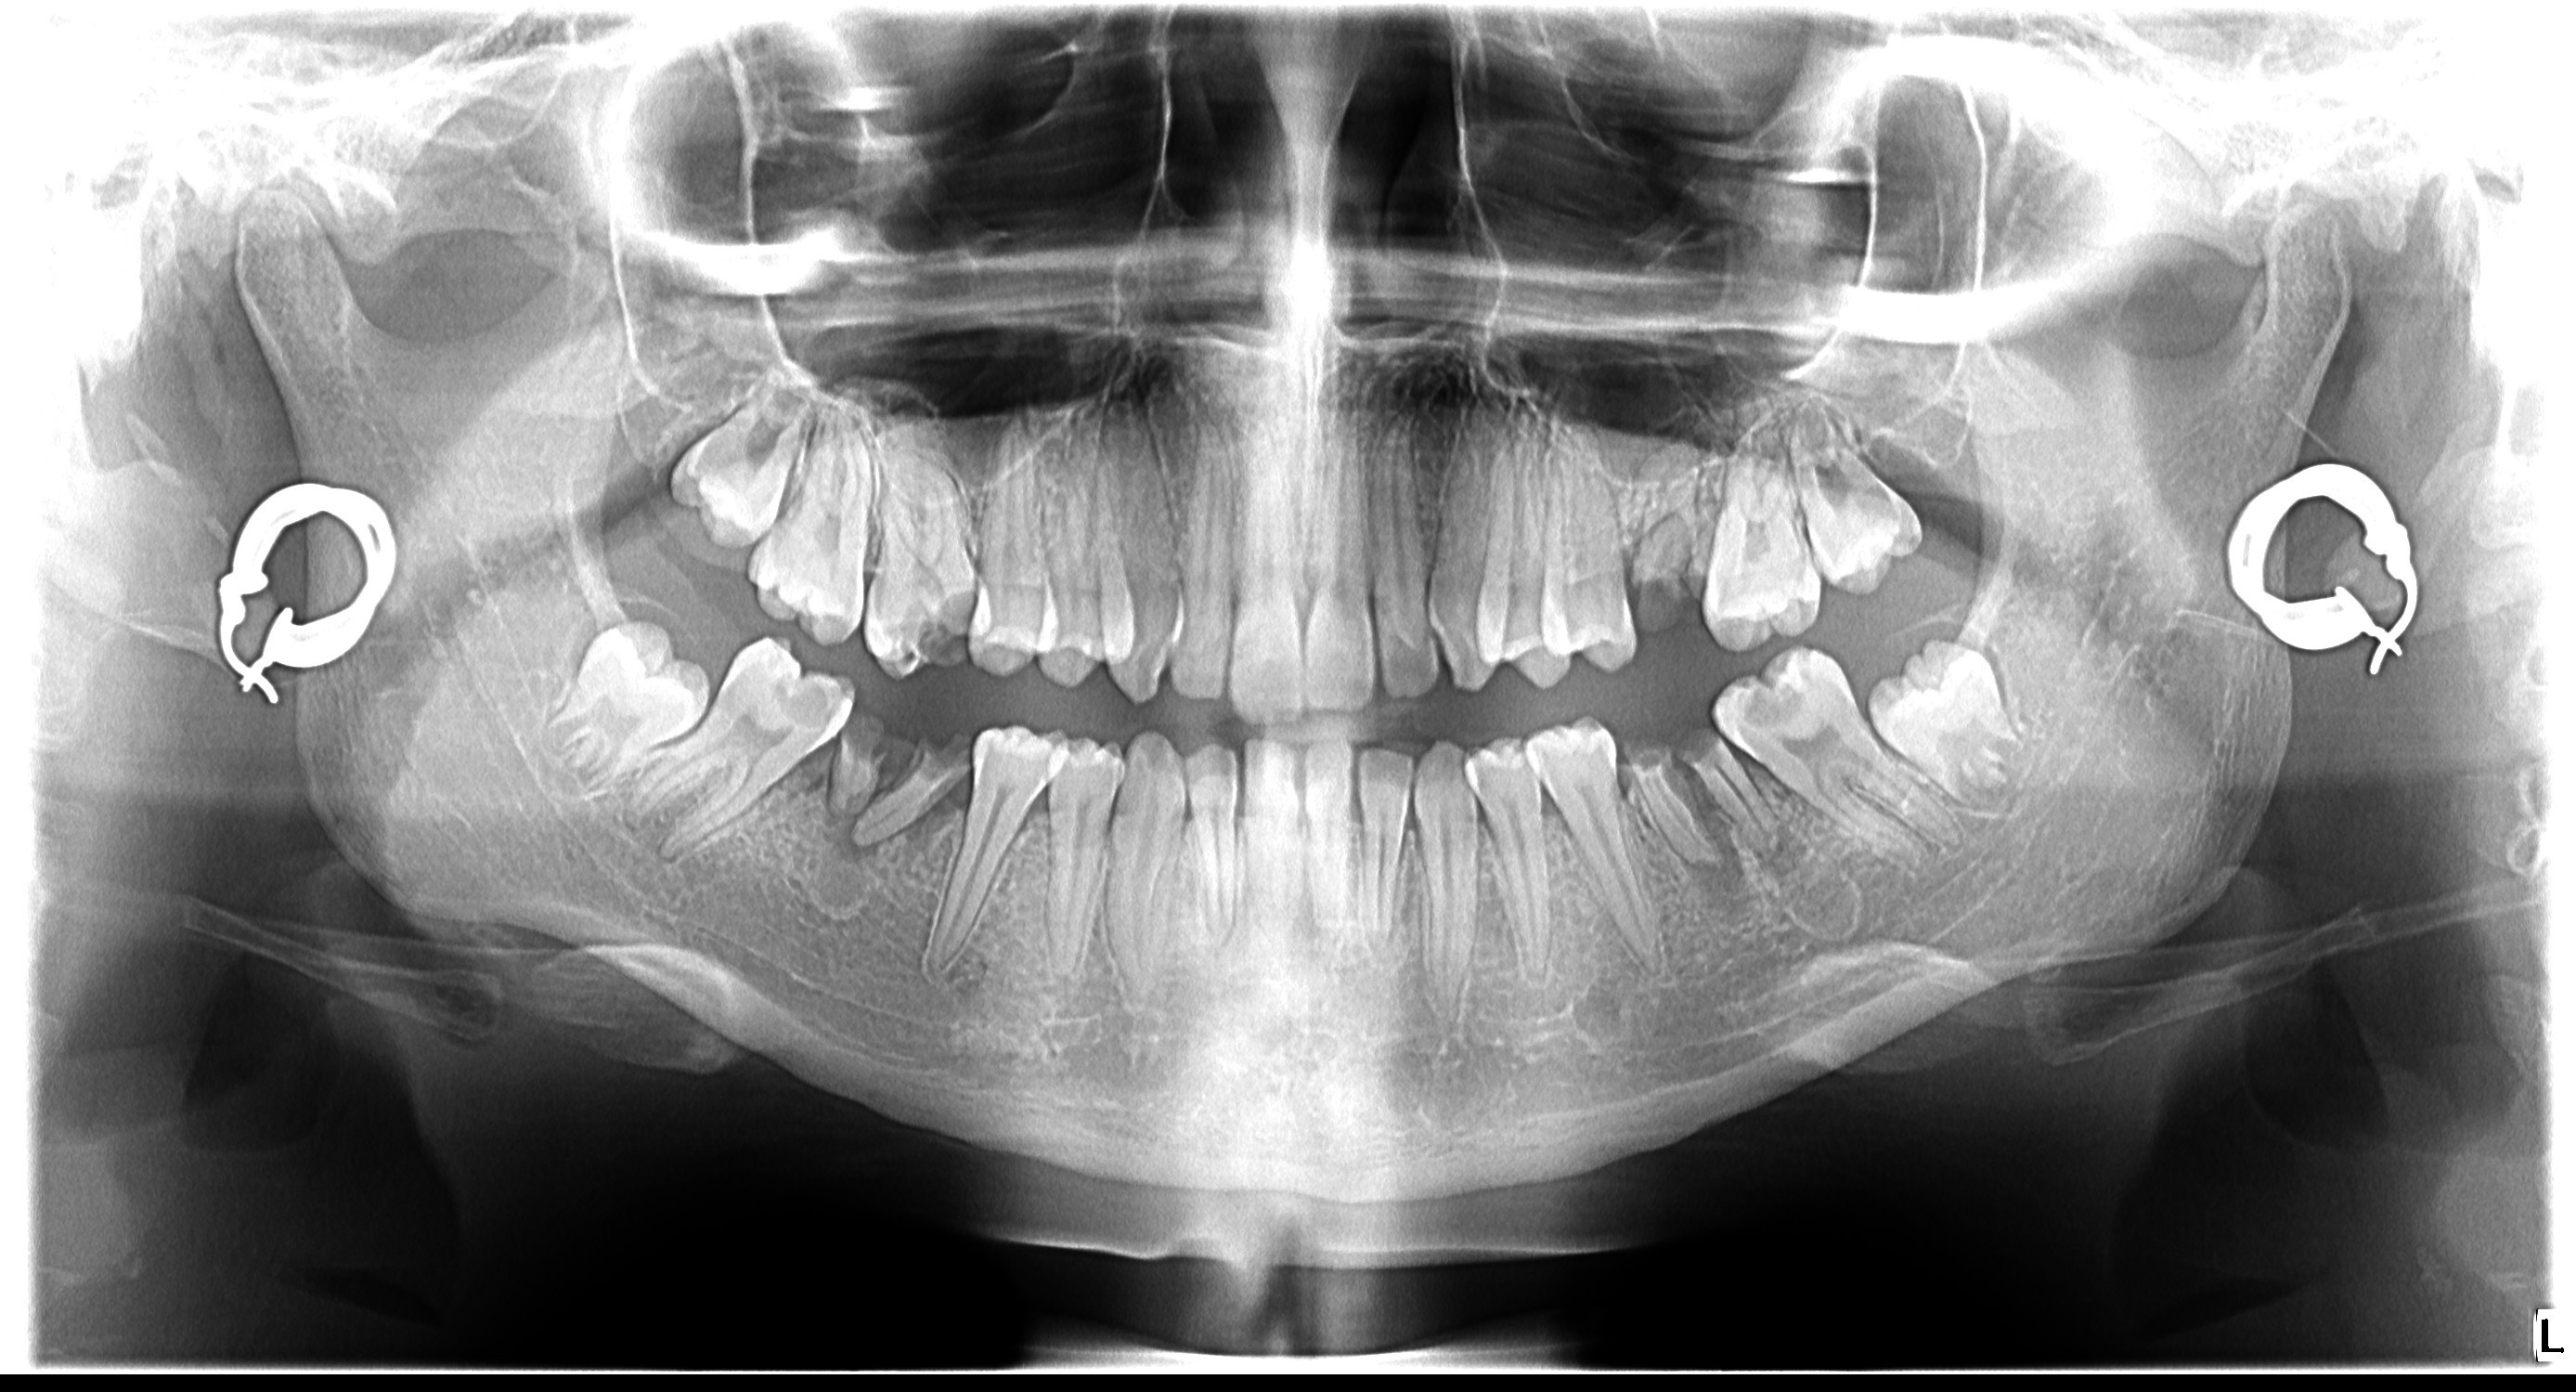API: (1663, 847, 1769, 926), (807, 801, 885, 886), (1738, 806, 1805, 903)
CAR: (896, 574, 995, 682), (760, 655, 853, 747), (1730, 651, 1812, 742), (1838, 475, 1922, 535)
IMT: (514, 579, 719, 787), (1862, 631, 2055, 825)
ROT: (1649, 698, 1802, 869), (841, 715, 997, 874), (1612, 739, 1728, 876), (1612, 501, 1706, 641), (805, 711, 894, 843)
